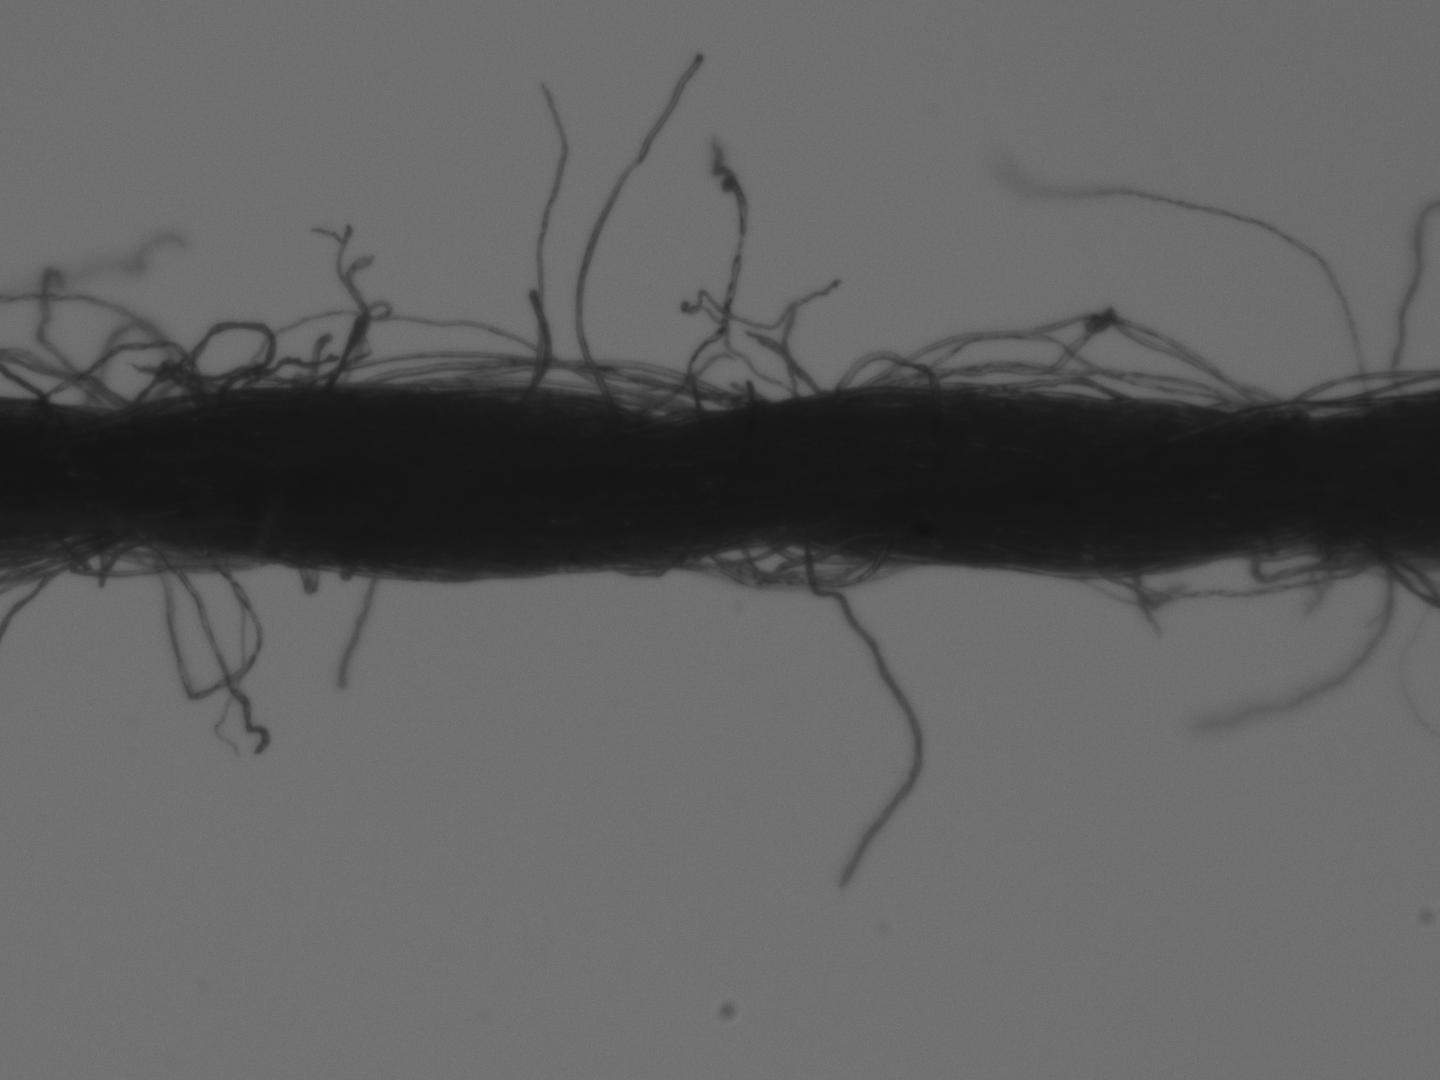loop_fiber: (849, 299, 1307, 430), (90, 539, 271, 704), (674, 278, 842, 423), (124, 315, 276, 419), (697, 517, 897, 589), (822, 343, 954, 407), (1252, 539, 1375, 589), (280, 562, 323, 600)
protruding_fiber: (570, 47, 710, 403), (788, 523, 926, 880), (329, 567, 383, 695)
